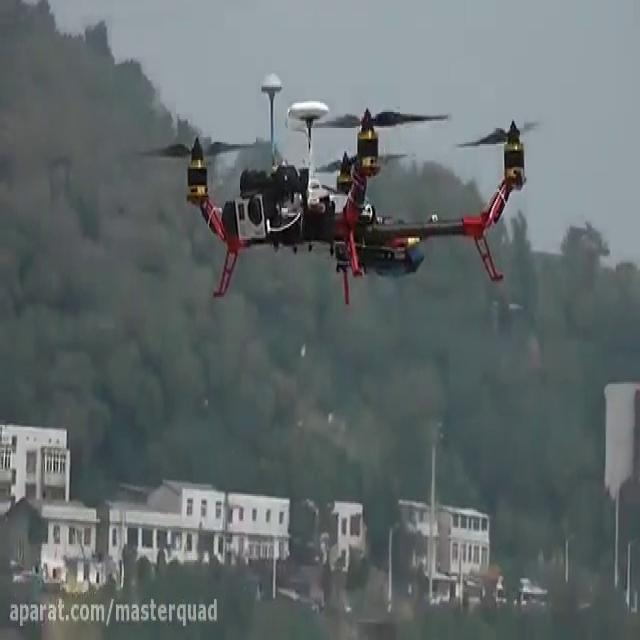drone: (131, 66, 548, 306)
